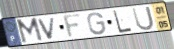F: (62, 12, 83, 40)
G: (86, 12, 107, 36)
L: (112, 9, 134, 34)
M: (15, 16, 45, 45)
U: (131, 5, 156, 32)
V: (37, 16, 57, 41)
